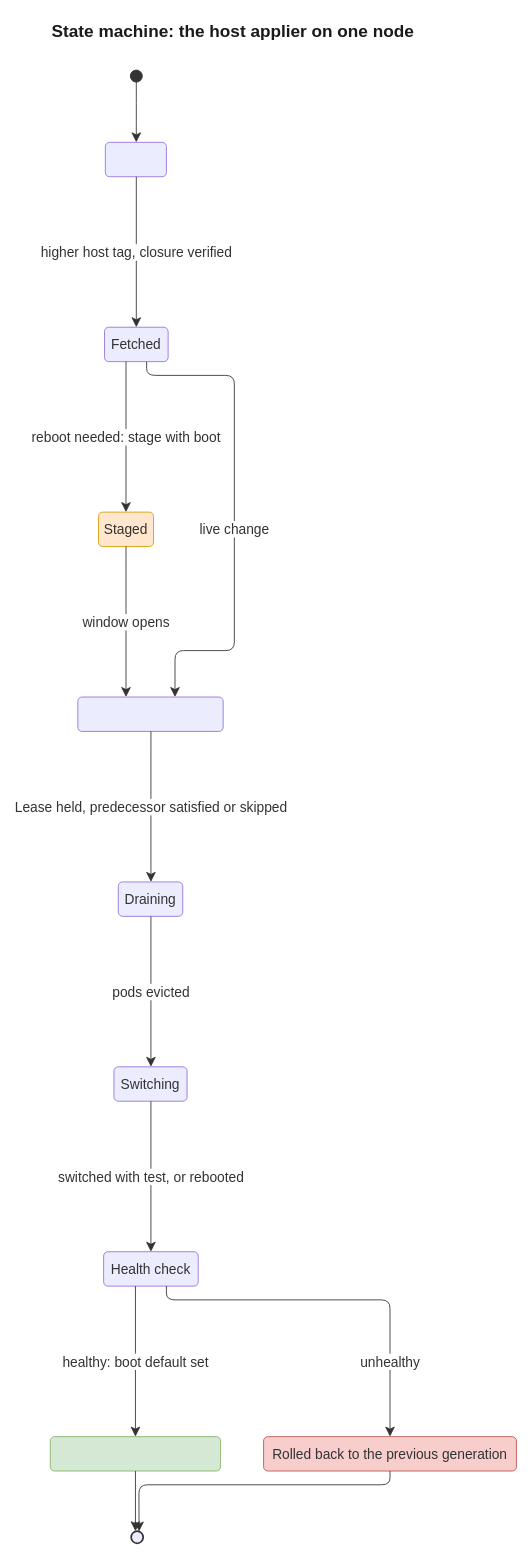
This 531x1558 diagram has some shape labels left out. Here are the shapes that lost their labels. From the top down, the box of each, then its label:
(104, 141, 166, 177): Current
(77, 696, 223, 731): Waiting for the Lease
(49, 1436, 221, 1471): Current (new generation)
